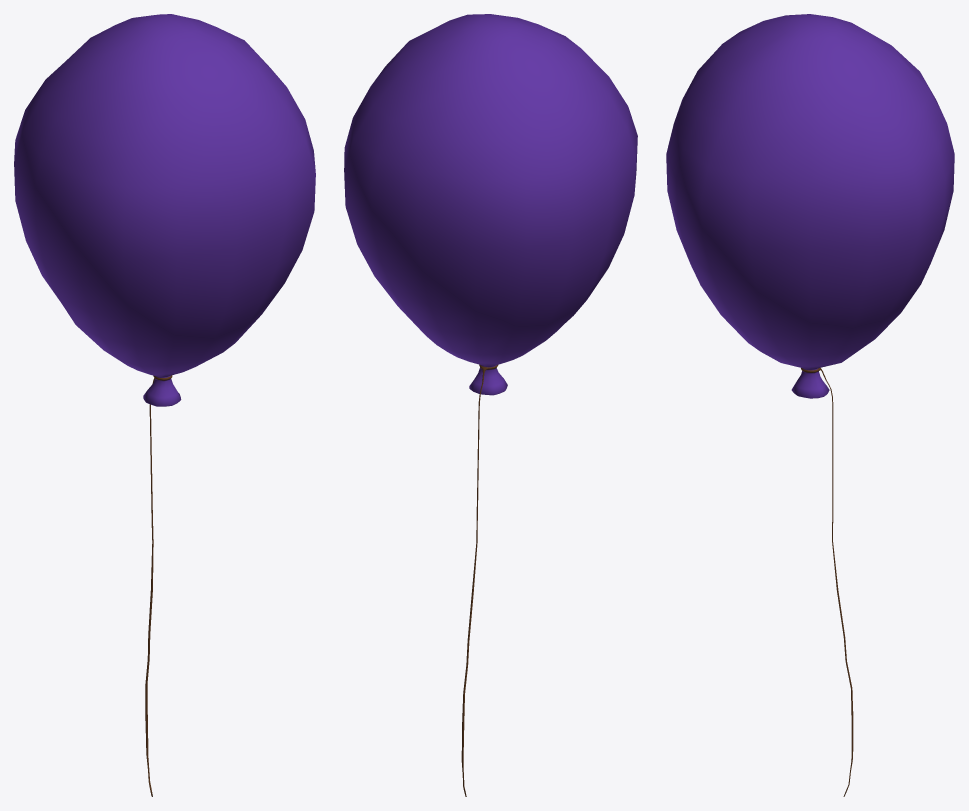
Rendered from ballons_purple.fbx.
3 views of the same model, side by side, from view 1: azimuth 30°, elevation 25°; view 2: azimuth 150°, elevation 25°; view 3: azimuth 270°, elevation 25° (orthographic). The views are drawn at different scales.
Parts seen in each view (by area): view 1: Cube.002; view 2: Cube.002; view 3: Cube.002.
Boxes of the visible parts, x1,y1,x2,y2 form: Cube.002: (14, 14, 315, 796); Cube.002: (344, 14, 637, 796); Cube.002: (666, 14, 954, 796).
Size of the model in its own units: 441 by 1297 by 440.
2 materials, 2 textured.
